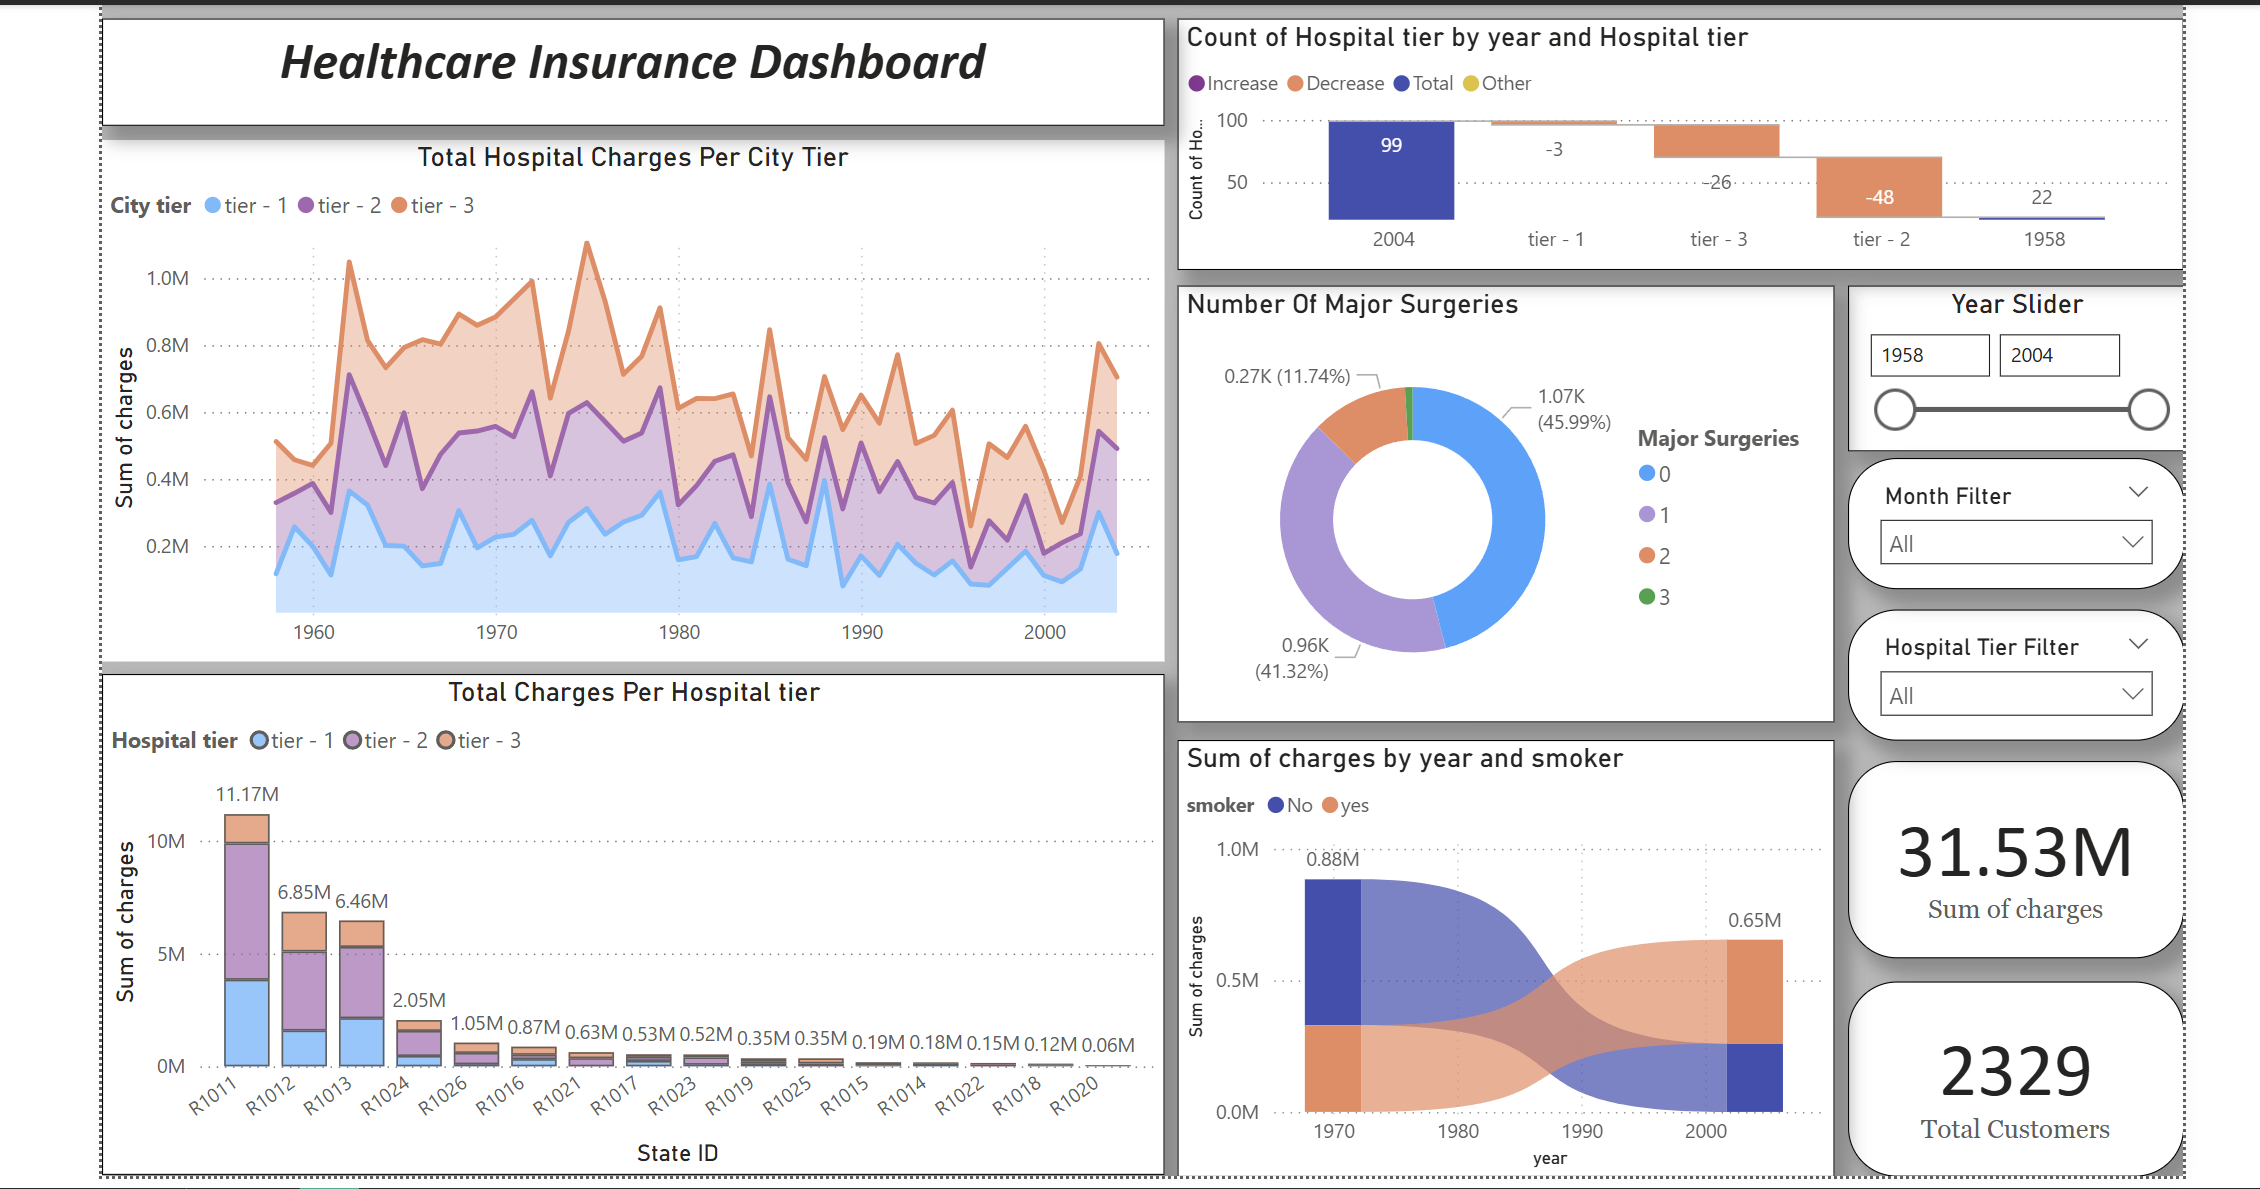

This screenshot's page, from the dashboard's own definition file:
{"tool":"powerbi","page":{"name":"Page 1","canvas":[1280,720],"ordinal":0},"visuals":[{"type":"slicer","title":"Year Slider","fields":{"Values":["hospitalization_data.year"]},"box":[1073.5,172.4,206.9,102.2],"z":0},{"type":"stackedAreaChart","title":"Total Hospital Charges Per City Tier","fields":{"Category":["hospitalization_data.year"],"Y":["Sum(hospitalization_data.charges)"],"Series":["hospitalization_data.City tier"]},"box":[0,82.8,653,320.4],"z":1000},{"type":"columnChart","title":"Total Charges Per Hospital tier","fields":{"Category":["hospitalization_data.State ID"],"Y":["Sum(hospitalization_data.charges)"],"Series":["hospitalization_data.Hospital tier"]},"box":[0,411.8,653,308.2],"z":2000},{"type":"card","fields":{"Values":["Sum(hospitalization_data.charges)"]},"box":[1073.5,464.8,206.9,121.3],"z":3000},{"type":"card","title":"Total Customers","fields":{"Values":["hospitalization_data.Total Customers"]},"box":[1073.5,600.4,206.9,120.1],"z":4000},{"type":"donutChart","title":"Number Of Major Surgeries","fields":{"Y":["CountNonNull(medical_Examination.Customer ID)"],"Category":["medical_Examination.NumberOfMajorSurgeries"]},"box":[661,172.4,404.2,268.7],"z":4001},{"type":"ribbonChart","fields":{"Category":["hospitalization_data.year"],"Y":["Sum(hospitalization_data.charges)"],"Series":["medical_Examination.smoker"]},"box":[661,451.8,404.2,268.7],"z":4002},{"type":"waterfallChart","fields":{"Category":["hospitalization_data.year"],"Breakdown":["hospitalization_data.Hospital tier"],"Y":["CountNonNull(hospitalization_data.Hospital tier)"]},"box":[661.5,8.5,618.9,154.7],"z":4003},{"type":"slicer","fields":{"Values":["hospitalization_data.Hospital tier"]},"box":[1073.3,371.6,207.1,80.4],"z":4004},{"type":"slicer","fields":{"Values":["hospitalization_data.month"]},"box":[1073.3,279,207.1,80.4],"z":4005},{"type":"textbox","box":[0,8.5,653,65.8],"z":4006}]}

Visuals, with their boxes in screenshot pixels (x1, y1, x2, y2):
"Year Slider" slicer: bbox=[1842, 275, 2179, 441]
"Total Hospital Charges Per City Tier" stackedAreaChart: bbox=[94, 129, 1157, 651]
"Total Charges Per Hospital tier" columnChart: bbox=[94, 665, 1157, 1167]
card - Sum(hospitalization_data.charges): bbox=[1842, 751, 2179, 948]
"Total Customers" card: bbox=[1842, 972, 2179, 1167]
"Number Of Major Surgeries" donutChart: bbox=[1171, 275, 1829, 712]
ribbonChart - hospitalization_data.year x Sum(hospitalization_data.charges): bbox=[1171, 730, 1829, 1167]
waterfallChart - hospitalization_data.year x hospitalization_data.Hospital tier: bbox=[1171, 8, 2179, 260]
slicer - hospitalization_data.Hospital tier: bbox=[1842, 599, 2179, 730]
slicer - hospitalization_data.month: bbox=[1842, 448, 2179, 579]
textbox: bbox=[94, 8, 1157, 115]
